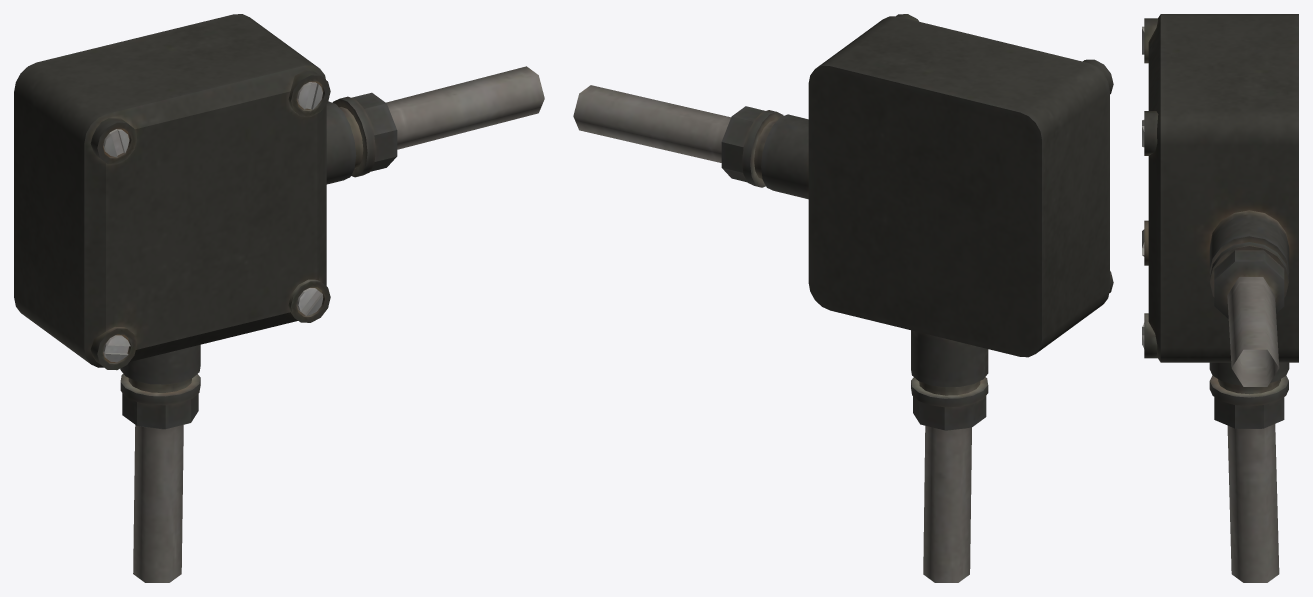
File: cable_box_turn.glb
The picture shows the model from 3 angles, left to right: view 1: azimuth 30°, elevation 25°; view 2: azimuth 150°, elevation 25°; view 3: azimuth 270°, elevation 25°; orthographic projection. The views are drawn at different scales.
Parts seen in each view (by area): view 1: cable_box_turn; view 2: cable_box_turn; view 3: cable_box_turn.
Boxes of the visible parts, <box> form: cable_box_turn: <box>14,14,544,582</box>; cable_box_turn: <box>573,14,1113,582</box>; cable_box_turn: <box>1142,14,1298,582</box>.
Size of the model in its own units: 0.1323 by 0.1323 by 0.0369.
1 material, 1 textured.
